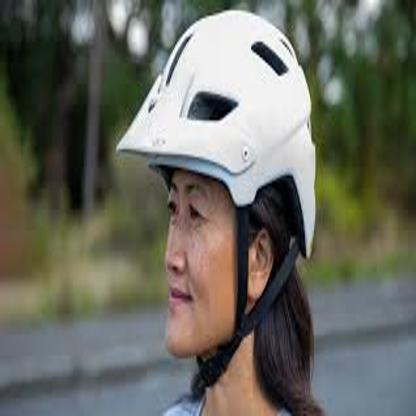not trash: (115, 10, 316, 266)
